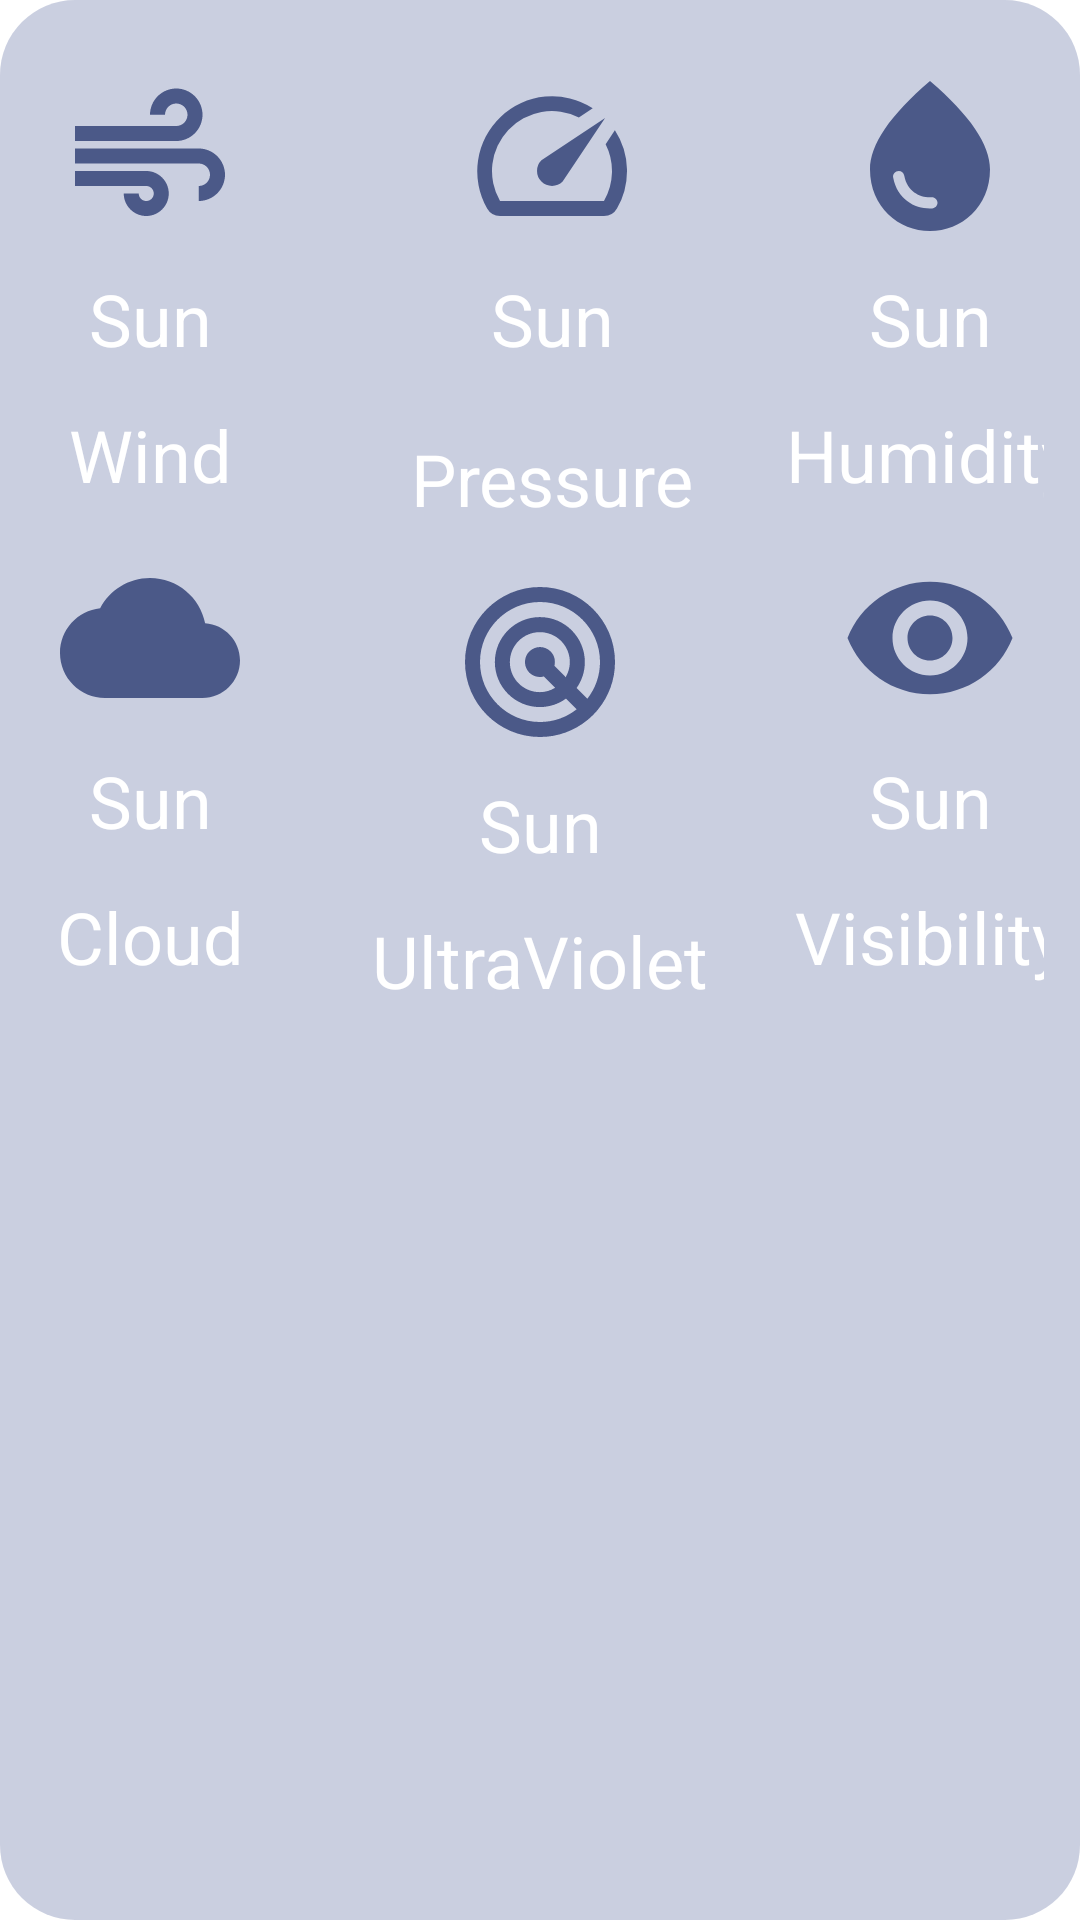

Screen size 1080 × 1920. Icon name, then its box in pixels as (left=x1, top=y1, right=x2, bottom=y2):
air: (left=75, top=88, right=225, bottom=216)
radar: (left=465, top=587, right=615, bottom=737)
speed: (left=477, top=96, right=627, bottom=216)
water drop: (left=870, top=81, right=990, bottom=231)
